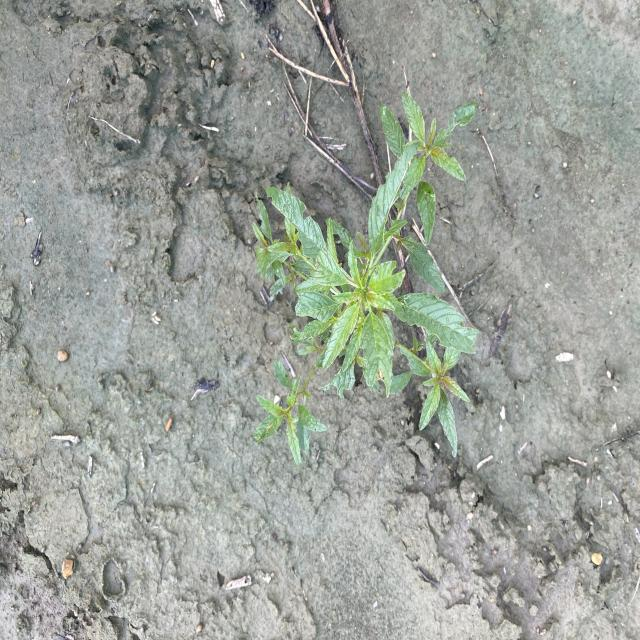Waterhemp: (252, 91, 484, 469)
